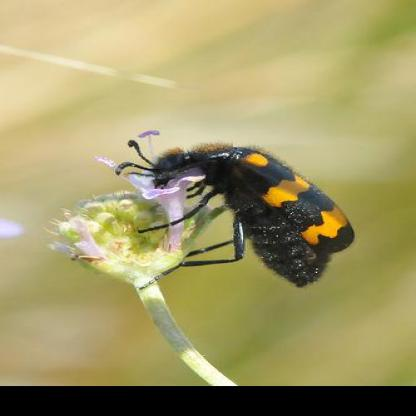beetle: (109, 133, 360, 289)
